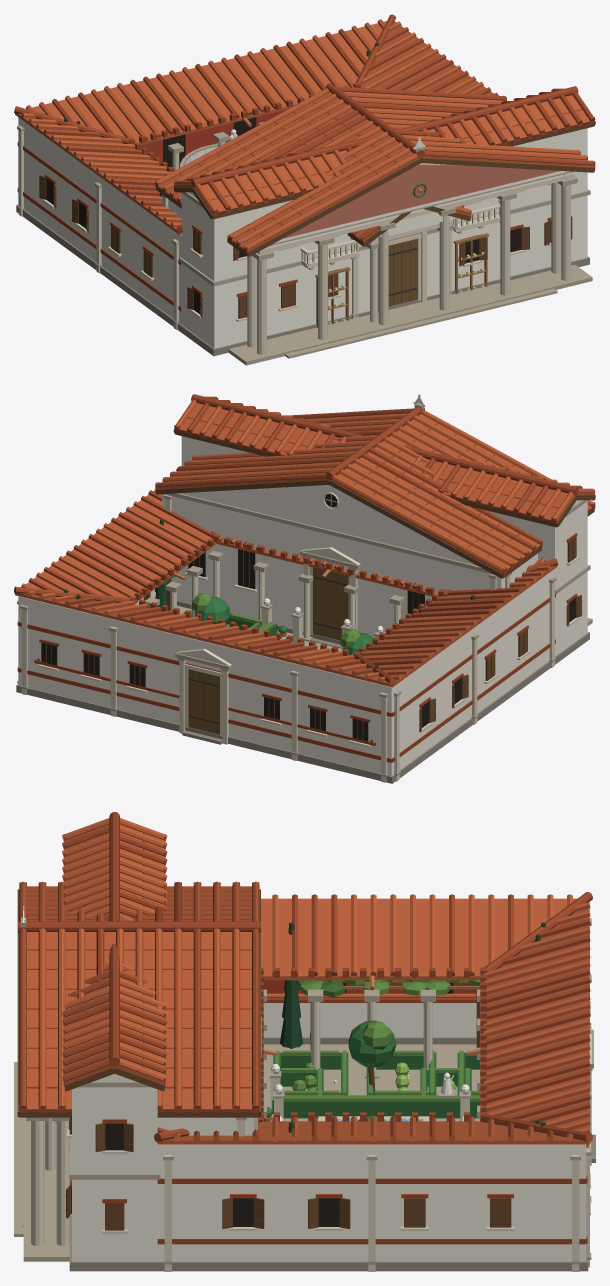
File: Peristylhaus.fbx
The picture shows the model from 3 angles, top to bottom: view 1: azimuth 30°, elevation 25°; view 2: azimuth 150°, elevation 25°; view 3: azimuth 270°, elevation 25°; orthographic projection. The views are drawn at different scales.
Visible parts, largest first — view 1: Peristylhaus_0, Peristylhaus_1; view 2: Peristylhaus_0, Peristylhaus_1; view 3: Peristylhaus_0, Peristylhaus_1.
Boxes of the visible parts, x1,y1,x2,y2 form: Peristylhaus_0: (14, 14, 595, 356); Peristylhaus_1: (64, 42, 595, 365); Peristylhaus_0: (14, 394, 595, 783); Peristylhaus_1: (33, 394, 595, 779); Peristylhaus_0: (45, 812, 595, 1271); Peristylhaus_1: (14, 881, 545, 1261).
Bounding box in the file's own units: 5.43 × 2.51 × 5.43.
